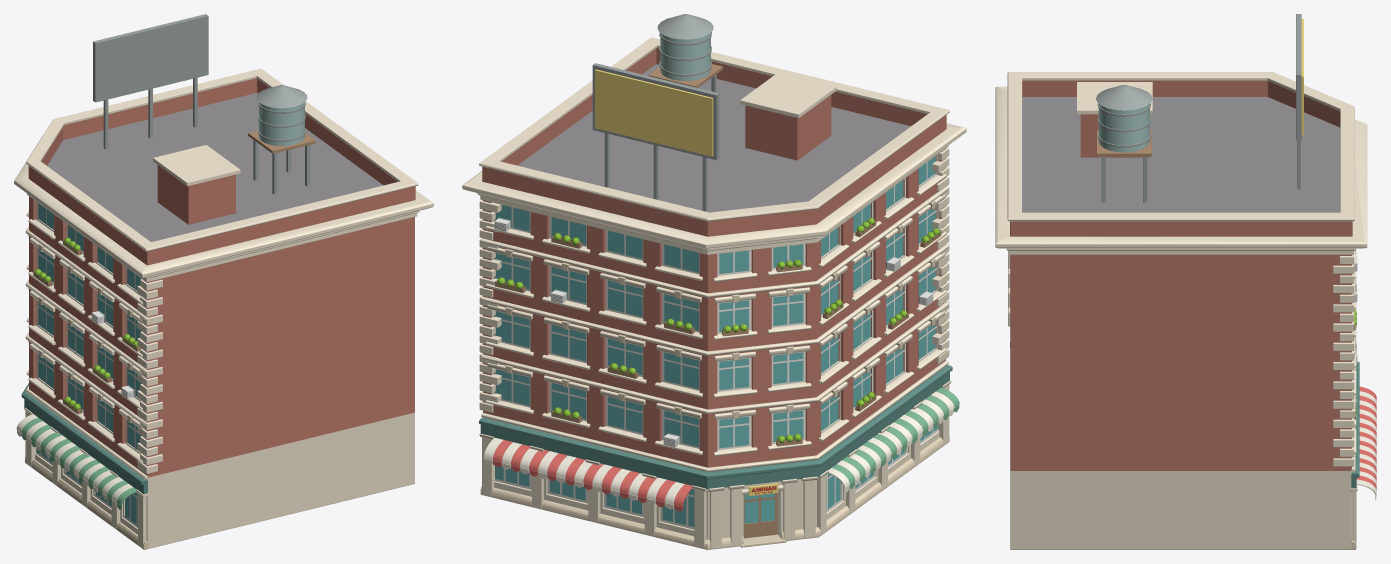
The model's file is brick_corner.glb.
3 views of the same model, side by side, from view 1: azimuth 30°, elevation 25°; view 2: azimuth 150°, elevation 25°; view 3: azimuth 270°, elevation 25° (orthographic). The views are drawn at different scales.
Parts seen in each view (by area): view 1: shell, trim, props, awnings, frames, foliage; view 2: shell, trim, props, frames, awnings, foliage; view 3: shell, trim, props, awnings.
Boxes of the visible parts, box(x1,y1,x2,y2) form: shell: box(29, 93, 414, 548); trim: box(14, 68, 433, 549); props: box(33, 14, 315, 414); awnings: box(16, 414, 136, 509); frames: box(36, 201, 141, 527); foliage: box(34, 237, 138, 409); shell: box(483, 64, 945, 539); trim: box(462, 37, 966, 549); props: box(494, 14, 941, 537); frames: box(493, 155, 938, 538); awnings: box(483, 387, 959, 511); foliage: box(497, 217, 939, 443); shell: box(1010, 97, 1351, 549); trim: box(995, 72, 1367, 549); props: box(1077, 14, 1357, 419); awnings: box(1356, 386, 1376, 500).
Size of the model in its own units: 20.1 by 25.22 by 20.1.
20 materials, 2 textured.
